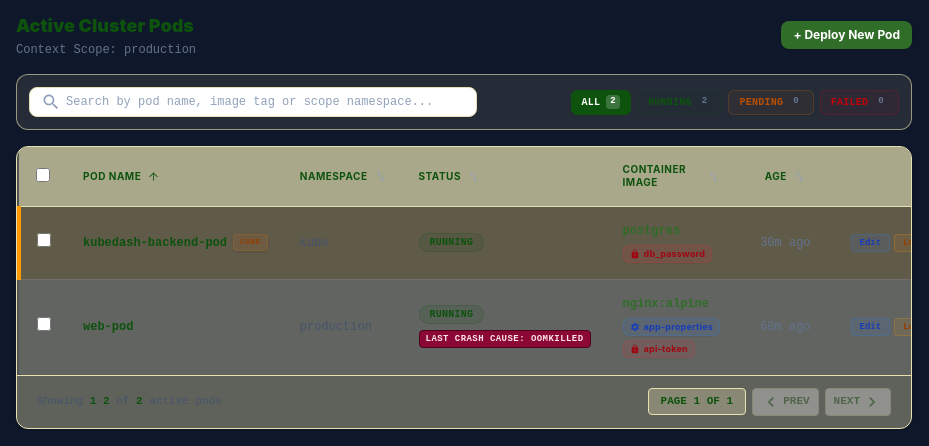
Scenario: PodsManagement layout component › filters pods based on search input and status pills
Expected: the text "web-pod" is shown, 83,319 -> 133,335
Expected: the text "kubedash-backend-pod" is shown, 83,235 -> 227,251
// typing kubedash into the search bar
Type "kubedash" into the field with placeholder "Search by pod name, image tag or scope namespace...".
click(253, 102); type("kubedash")  # box 29,87 -> 477,117
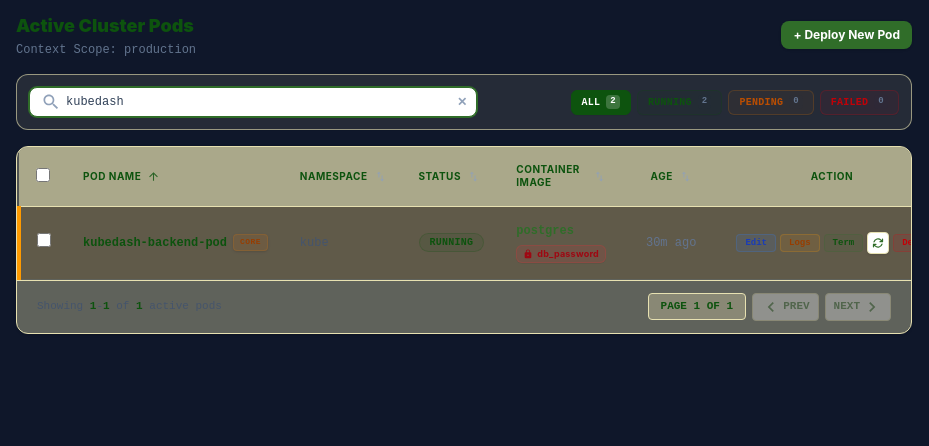
Expected: the text "kubedash-backend-pod" is shown, 83,235 -> 227,251
Expected: the text "web-pod" is gone
// clear search by clicking x botton
Click the button "✕".
click(462, 102)  # box 457,94 -> 467,110
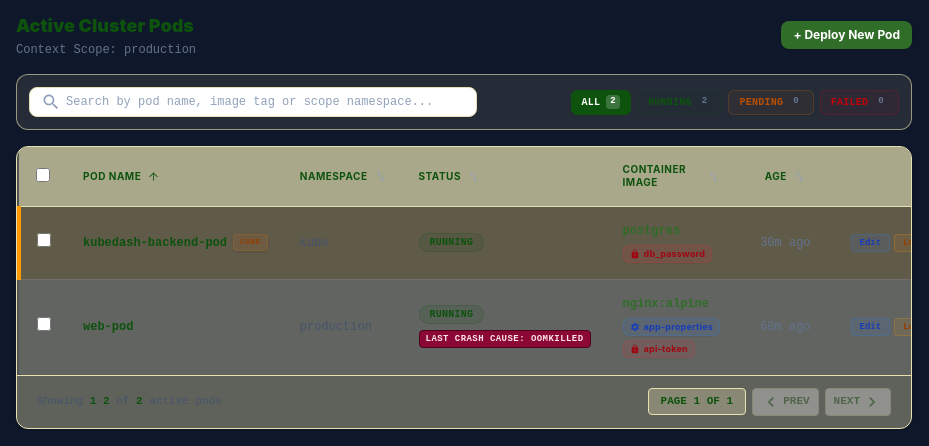
Expected: the text "web-pod" is shown, 83,319 -> 133,335
// test status filters (clicking Failed button)
Click the button "Failed 0".
click(859, 102)  # box 820,90 -> 899,114
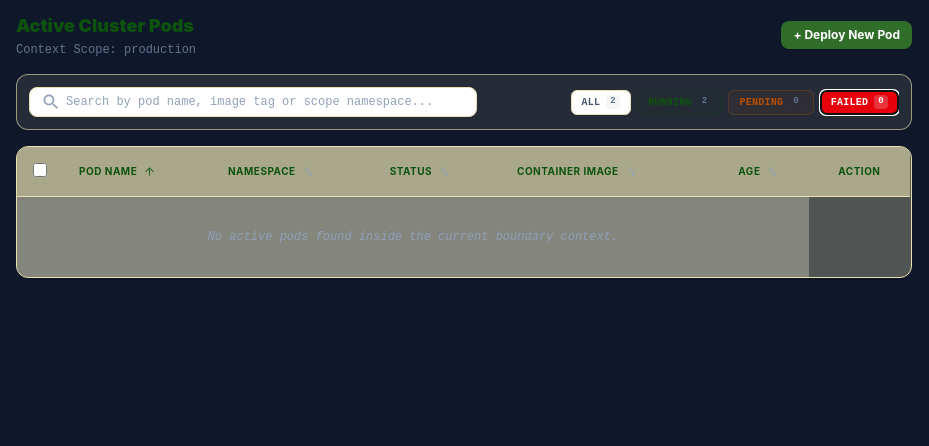
Expected: the text "No active pods found inside the current boundary context." is shown, 17,197 -> 809,277
